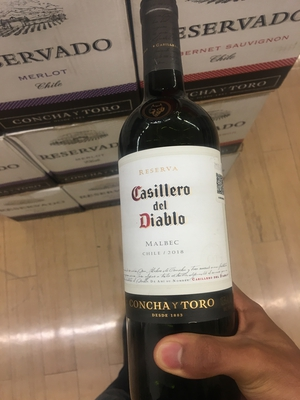casillero del diablo malbec: (112, 5, 245, 390)
